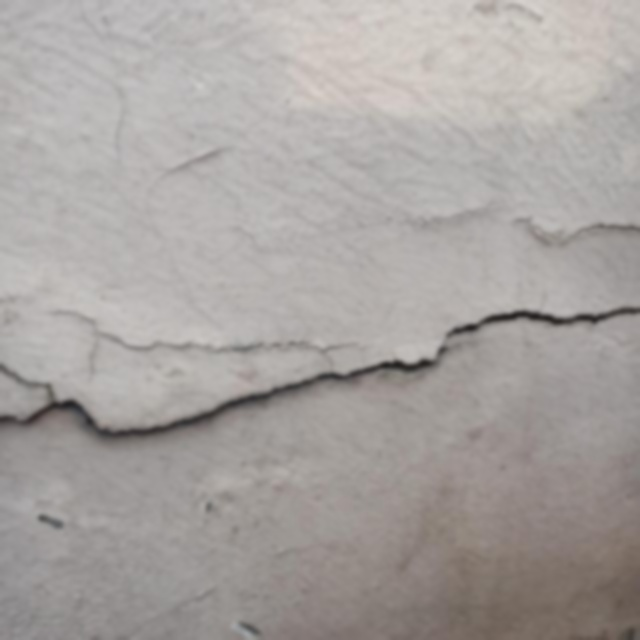SurfaceCrack: (382, 182, 640, 262)
